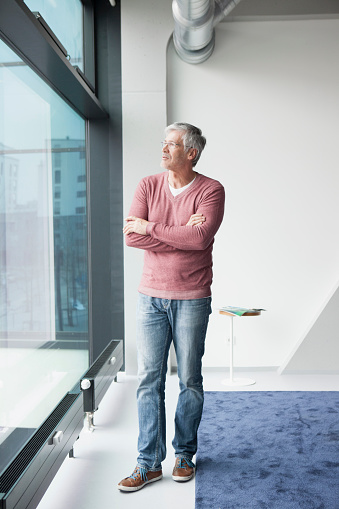em pe: (125, 117, 233, 499)
